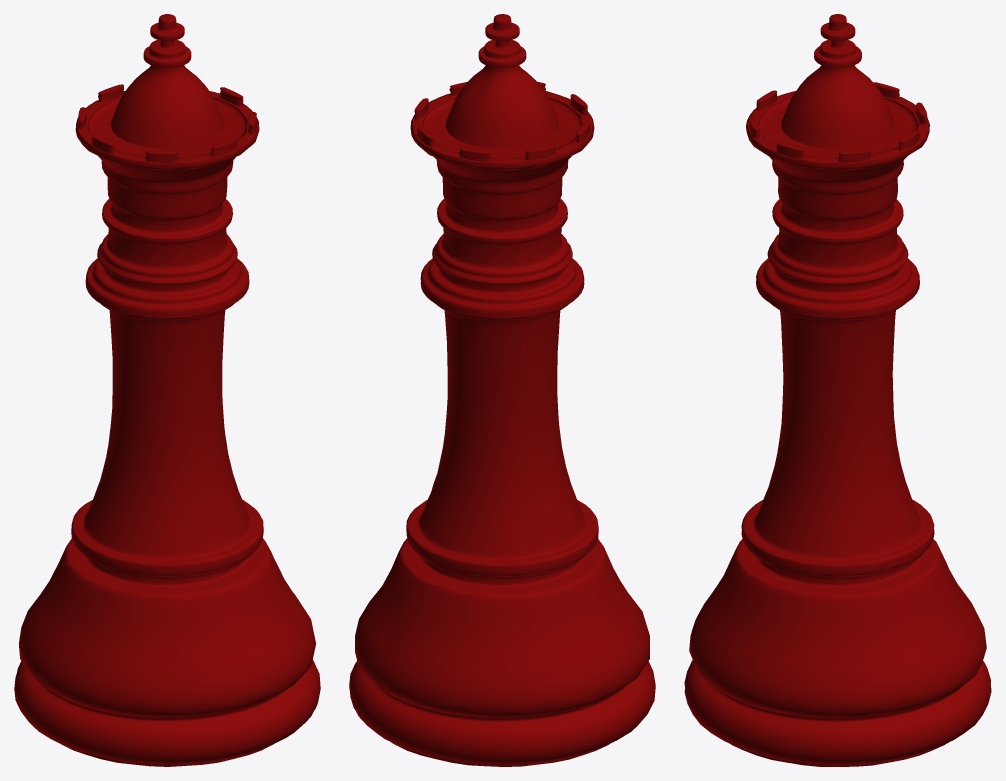
The picture shows the model from 3 angles, left to right: view 1: azimuth 30°, elevation 25°; view 2: azimuth 150°, elevation 25°; view 3: azimuth 270°, elevation 25°; orthographic projection.
Parts seen in each view (by area): view 1: Queen_02; view 2: Queen_02; view 3: Queen_02.
Boxes of the visible parts, x1,y1,x2,y2 form: Queen_02: (14,14,320,766); Queen_02: (349,14,655,766); Queen_02: (684,14,991,766).
Bounding box in the file's own units: 0.3161 × 0.7892 × 0.3161.
